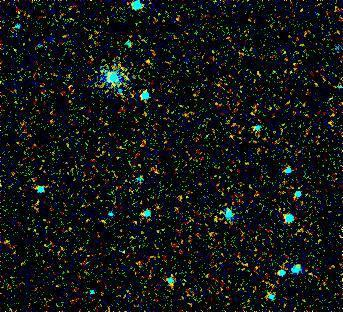star: (135, 47, 165, 77)
